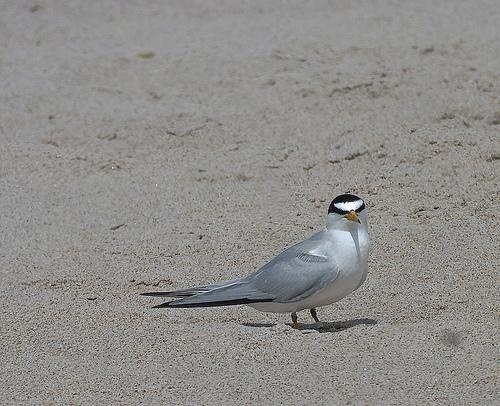bird: (148, 193, 373, 332)
